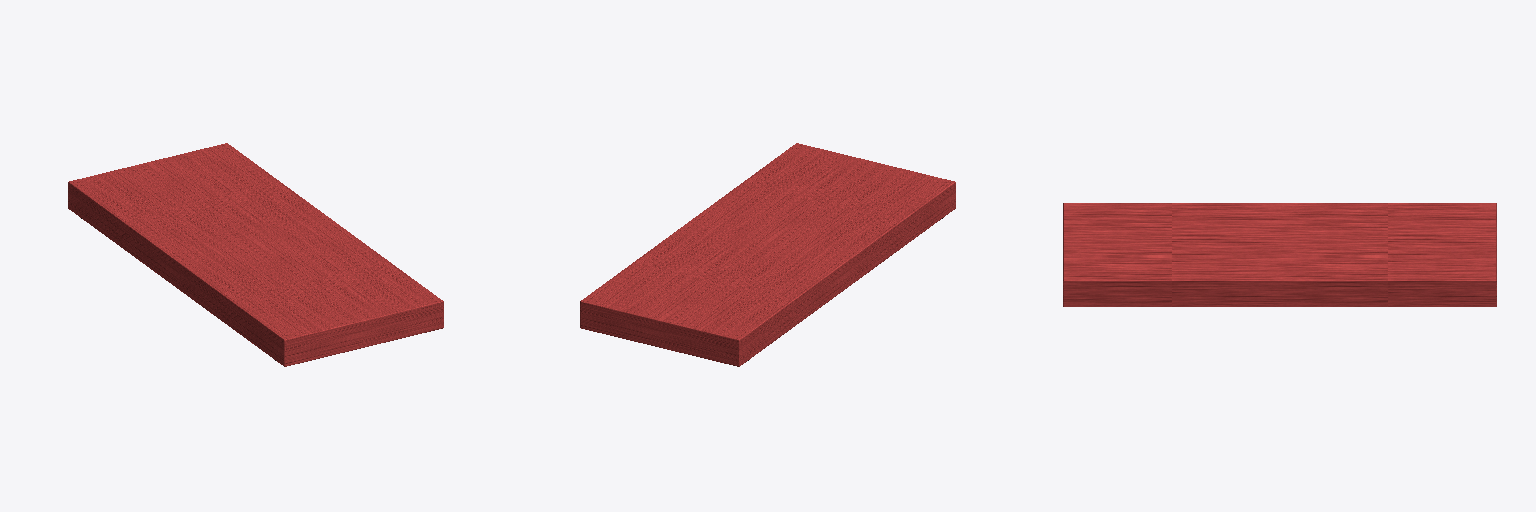
The picture shows the model from 3 angles: view 1: azimuth 30°, elevation 25°; view 2: azimuth 150°, elevation 25°; view 3: azimuth 270°, elevation 25°; orthographic projection.
Parts seen in each view (by area): view 1: pp52_stell; view 2: pp52_stell; view 3: pp52_stell.
Boxes of the visible parts, x1,y1,x2,y2 form: pp52_stell: [68, 143, 443, 366]; pp52_stell: [580, 143, 955, 366]; pp52_stell: [1063, 203, 1496, 306].
Bounding box in the file's own units: 85 × 15 × 200.
2 materials, 1 textured.